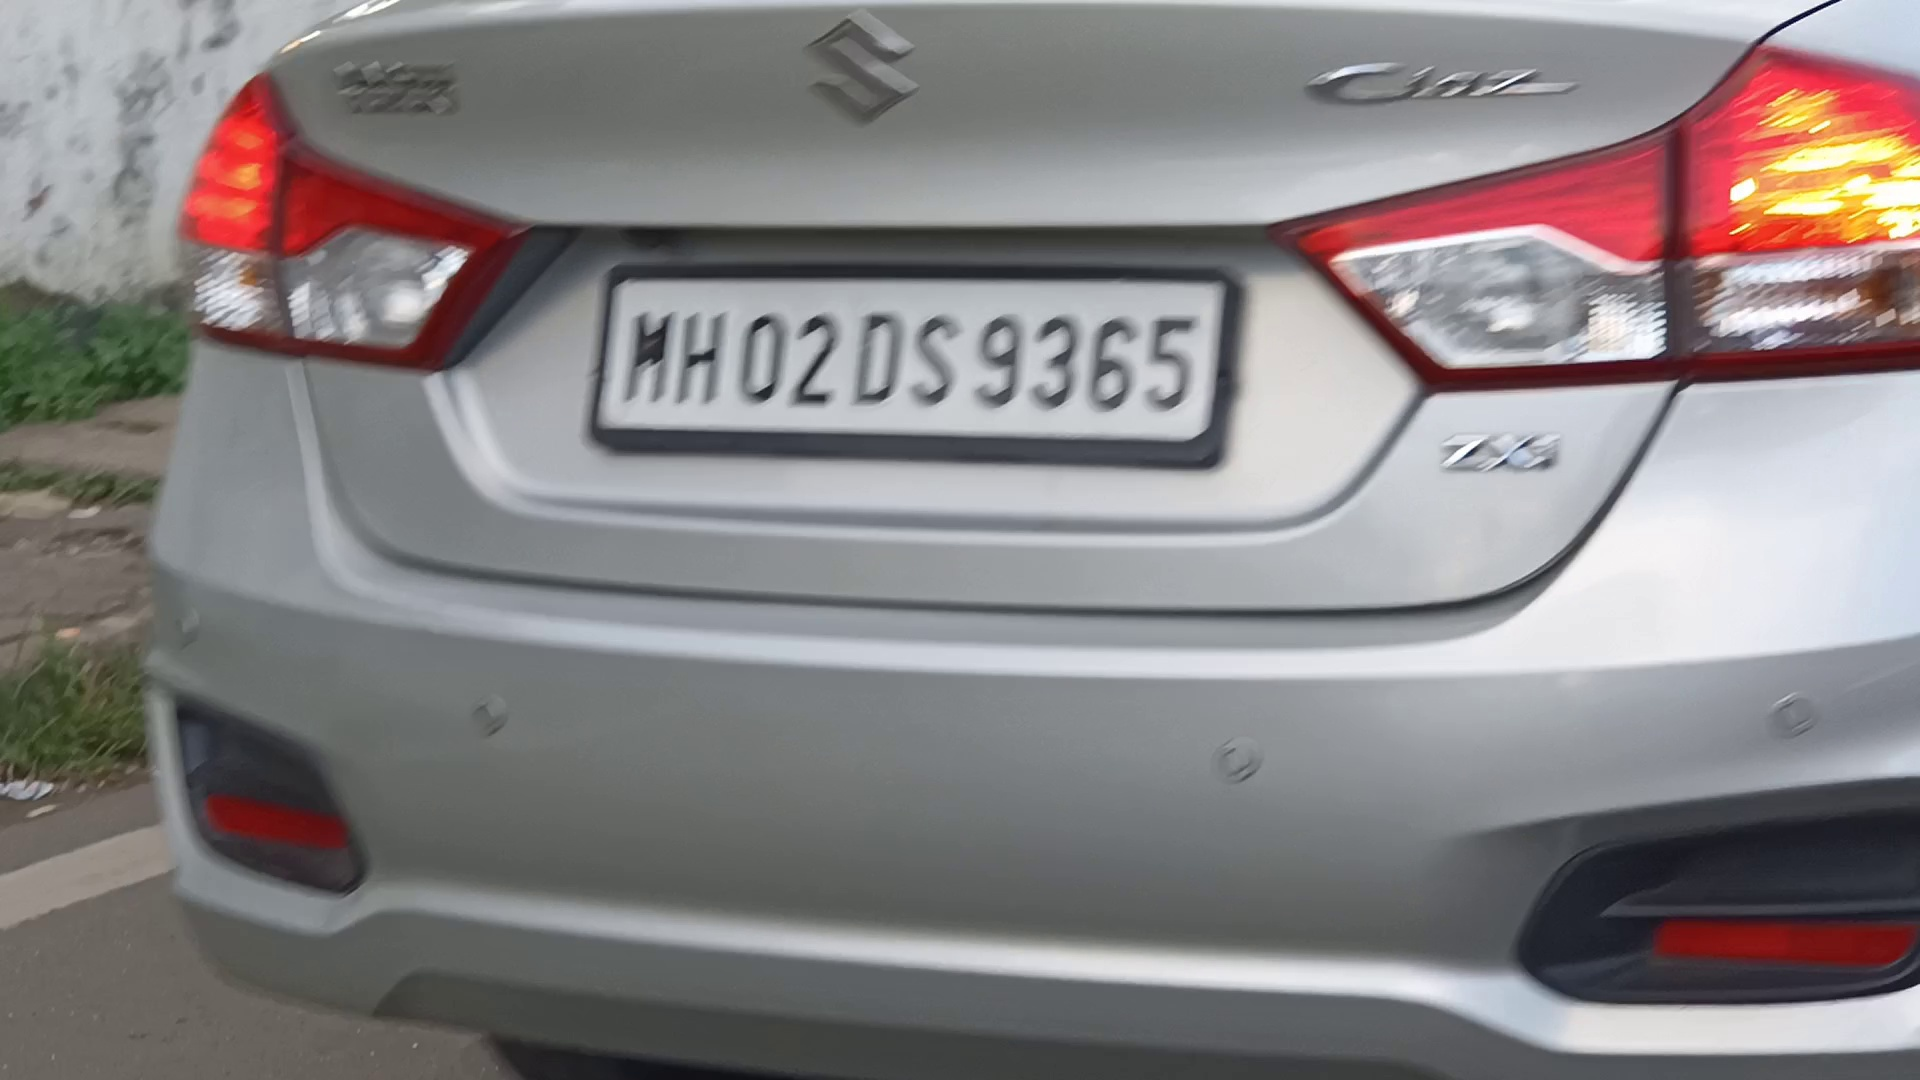MH02DS9365: (589, 265, 1227, 449)
